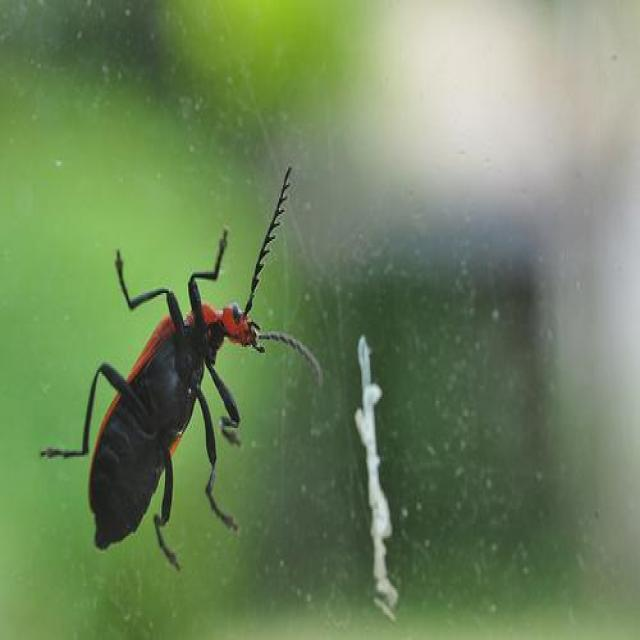BlisterBeetle-Adult-: (48, 151, 320, 571)
